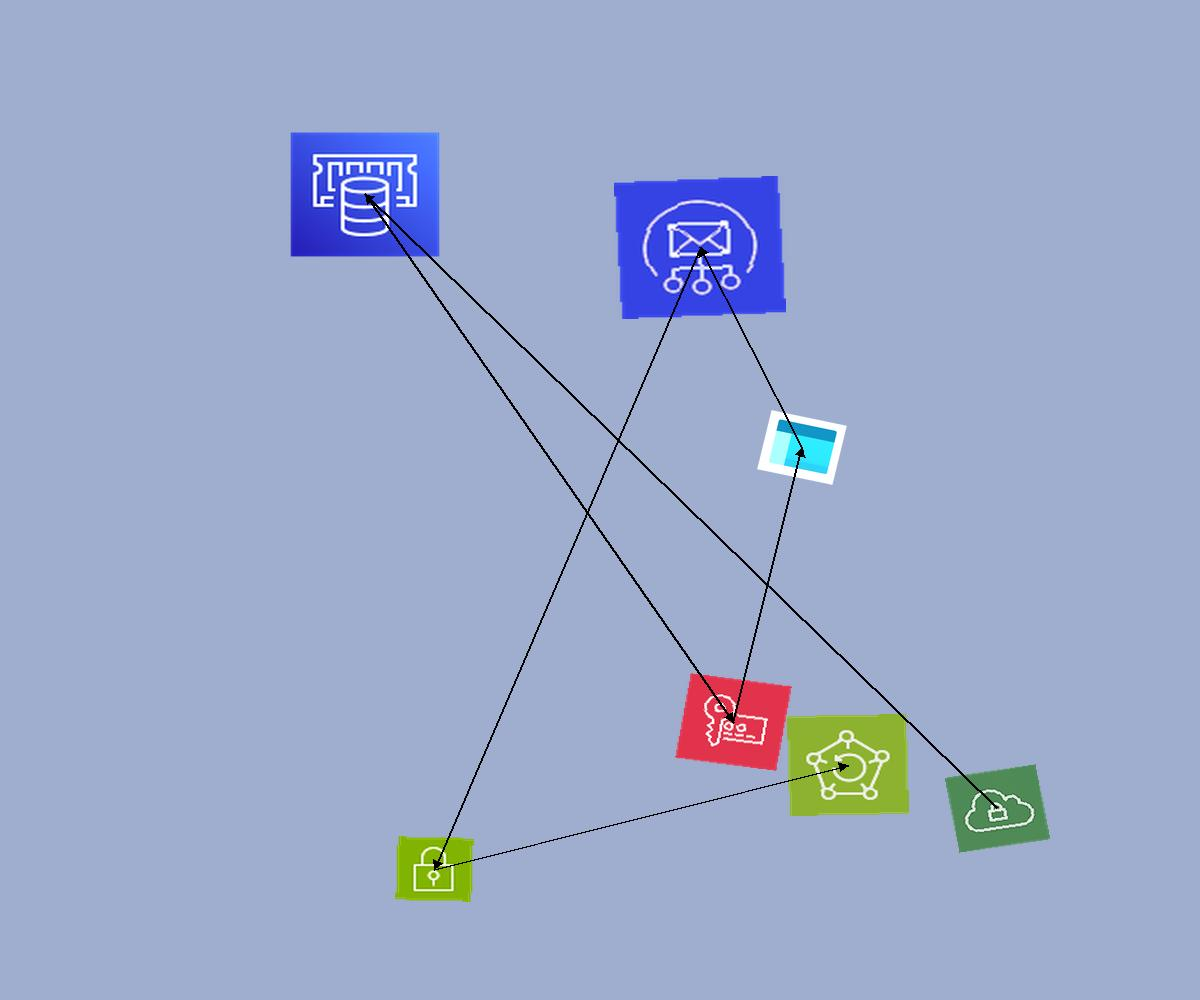AWS-Backup: (787, 714, 909, 816)
AWS-ElastiCache: (289, 131, 441, 258)
AWS-Key-Management-Service: (675, 673, 792, 771)
AWS-Private_vpc: (944, 764, 1051, 853)
AWS-Public-subnet: (395, 836, 474, 902)
AWS-Simple-Email-Service: (614, 176, 786, 319)
Azure_management-portal: (757, 410, 847, 485)
